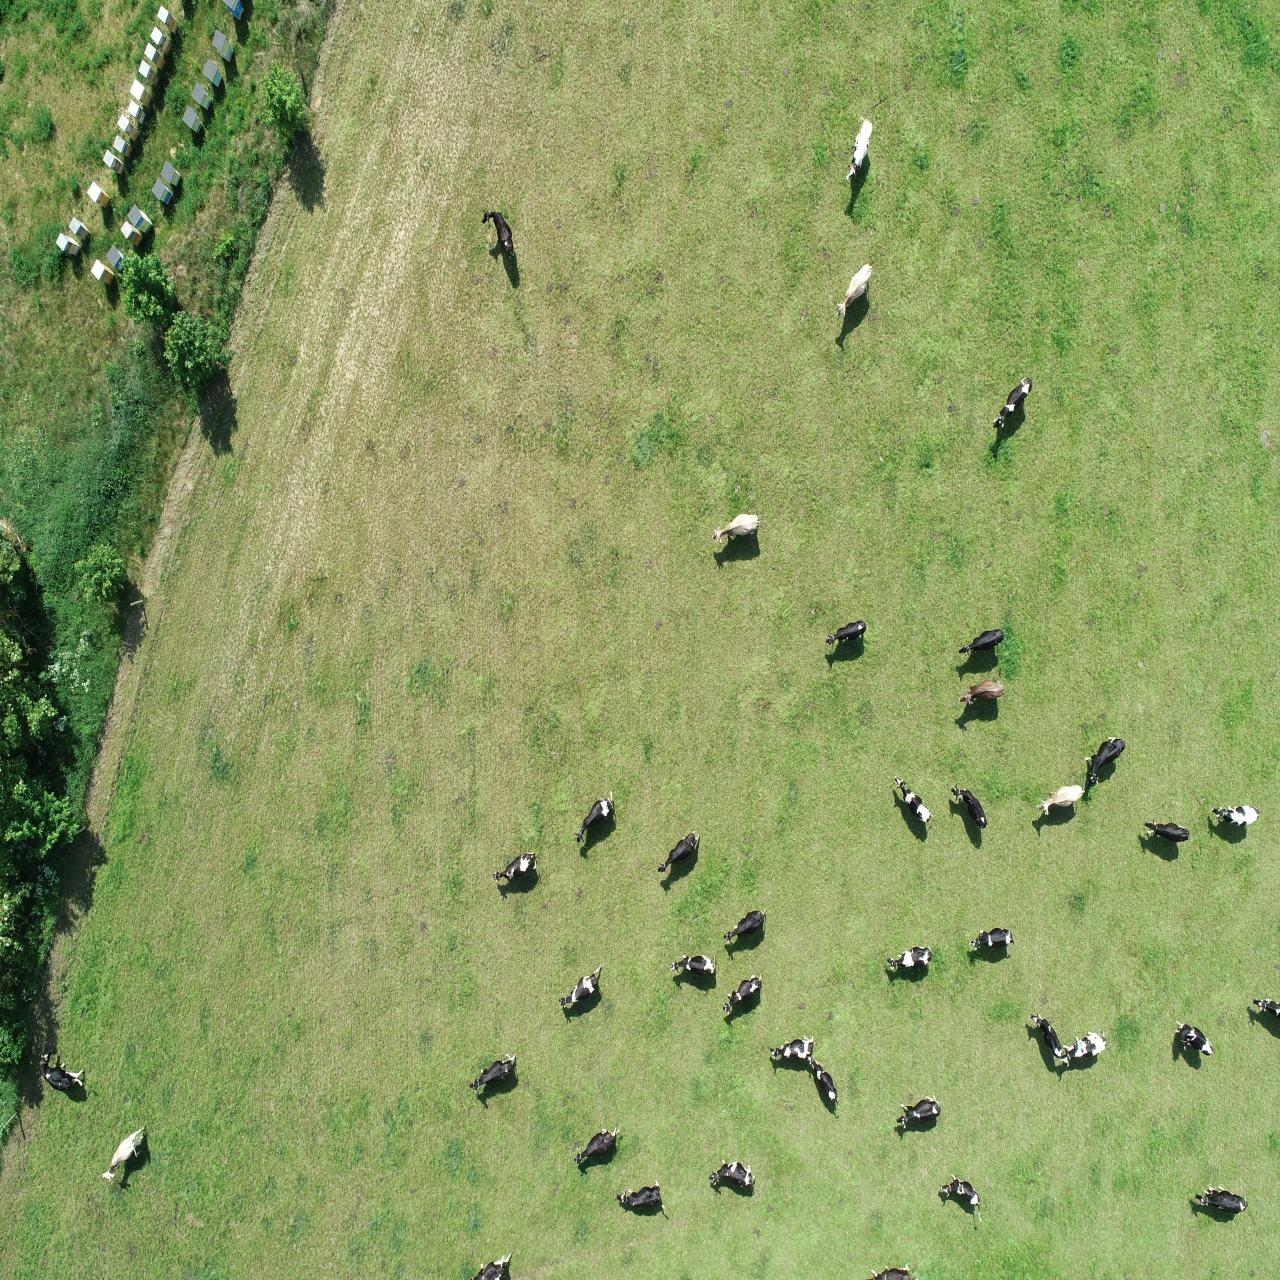cow: (840, 113, 877, 199), (101, 1123, 150, 1185), (572, 789, 619, 847), (935, 1172, 986, 1226), (1082, 733, 1129, 788), (833, 260, 876, 321), (990, 375, 1034, 433), (557, 962, 604, 1014), (955, 667, 1009, 712), (469, 1053, 520, 1098), (890, 772, 934, 825), (655, 828, 701, 878), (804, 1051, 843, 1110), (38, 1047, 86, 1092), (721, 969, 765, 1019), (1057, 1029, 1108, 1073), (478, 205, 517, 261), (706, 1155, 758, 1194), (614, 1178, 670, 1214), (948, 782, 989, 831), (573, 1124, 620, 1166), (721, 907, 769, 948), (1141, 812, 1191, 851), (710, 509, 762, 546), (1034, 779, 1085, 817), (492, 847, 539, 888), (1027, 1010, 1064, 1061), (894, 1092, 942, 1131), (767, 1030, 816, 1068), (966, 918, 1016, 954), (884, 942, 934, 978), (952, 626, 1008, 655), (1208, 801, 1262, 830), (821, 619, 870, 648), (667, 952, 717, 980)
